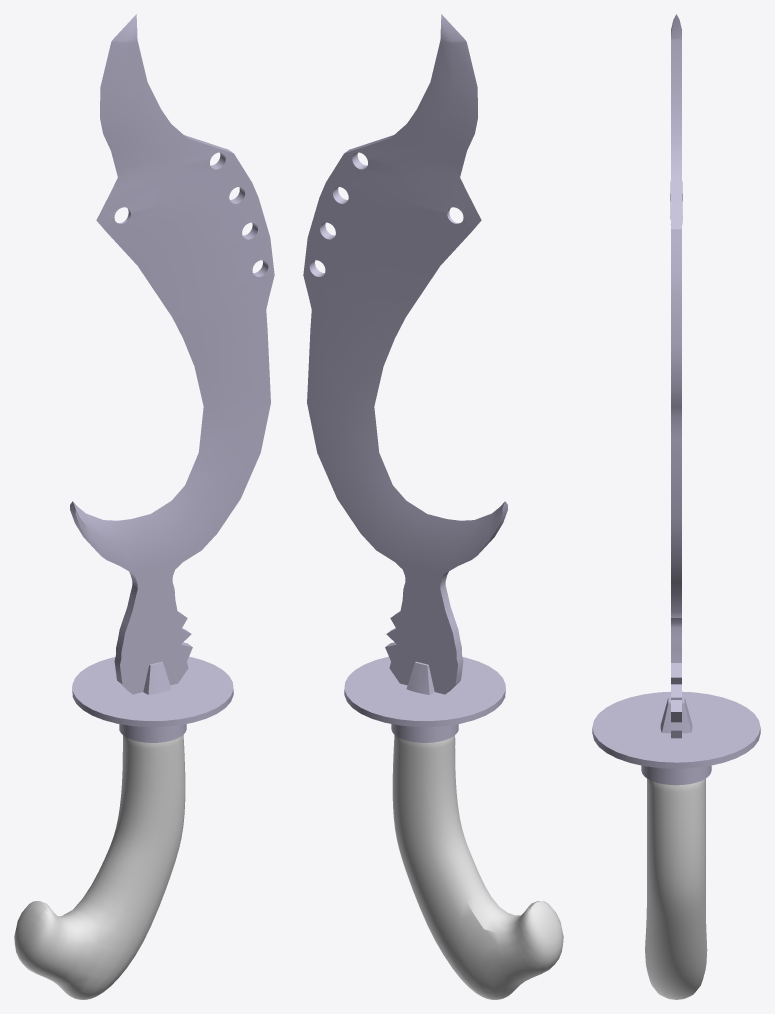
Rendered from kujang-01.fbx.
The picture shows the model from 3 angles, left to right: view 1: azimuth 30°, elevation 25°; view 2: azimuth 150°, elevation 25°; view 3: azimuth 270°, elevation 25°; orthographic projection. The views are drawn at different scales.
Parts seen in each view (by area): view 1: Cylinder.006; view 2: Cylinder.006; view 3: Cylinder.006.
Boxes of the visible parts, box(x1,y1,x2,y2) form: Cylinder.006: box(14, 14, 274, 999); Cylinder.006: box(303, 14, 563, 999); Cylinder.006: box(592, 14, 760, 999).
Size of the model in its own units: 133 by 490 by 73.84.
